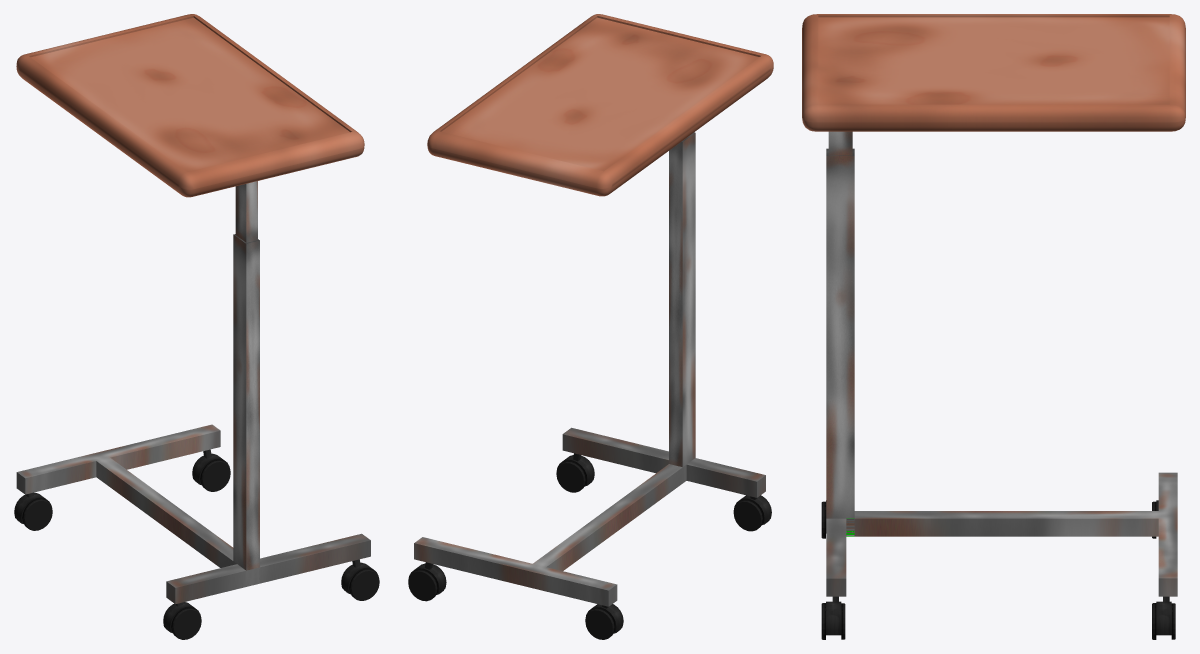
The picture shows the model from 3 angles, left to right: view 1: azimuth 30°, elevation 25°; view 2: azimuth 150°, elevation 25°; view 3: azimuth 270°, elevation 25°; orthographic projection. The views are drawn at different scales.
Parts seen in each view (by area): view 1: Box004, Wheel 004, Wheel 1, Wheel 003, Wheel 002; view 2: Box004, Wheel 1, Wheel 004, Wheel 002, Wheel 003; view 3: Box004, Wheel 1, Wheel 004.
Boxes of the visible parts, x1,y1,x2,y2 form: Box004: (16,14,370,604); Wheel 004: (192,449,230,491); Wheel 1: (341,559,379,600); Wheel 003: (14,492,52,530); Wheel 002: (163,602,201,639); Box004: (414,14,773,606); Wheel 1: (556,453,594,492); Wheel 004: (408,562,446,601); Wheel 002: (733,495,771,531); Wheel 003: (585,604,623,639); Box004: (802,14,1185,596); Wheel 1: (821,596,845,639); Wheel 004: (1152,596,1175,639).
Size of the model in its own units: 178 by 384 by 254.
1 material, 1 textured.
